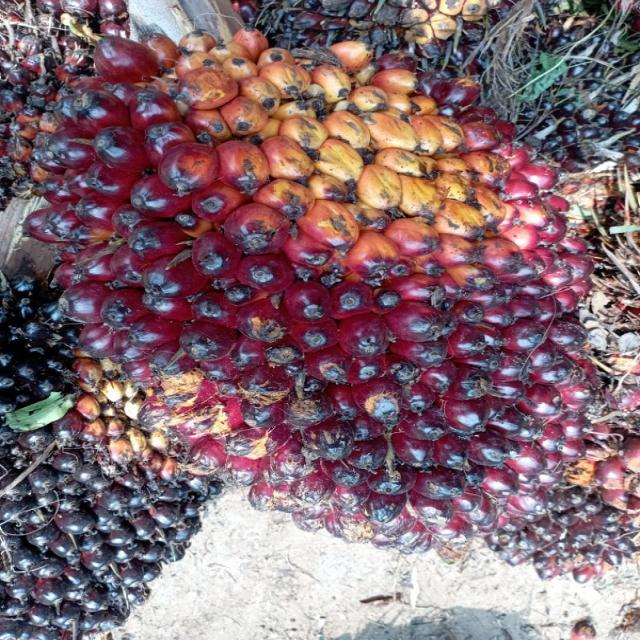fraksi 3: (23, 22, 594, 561)
